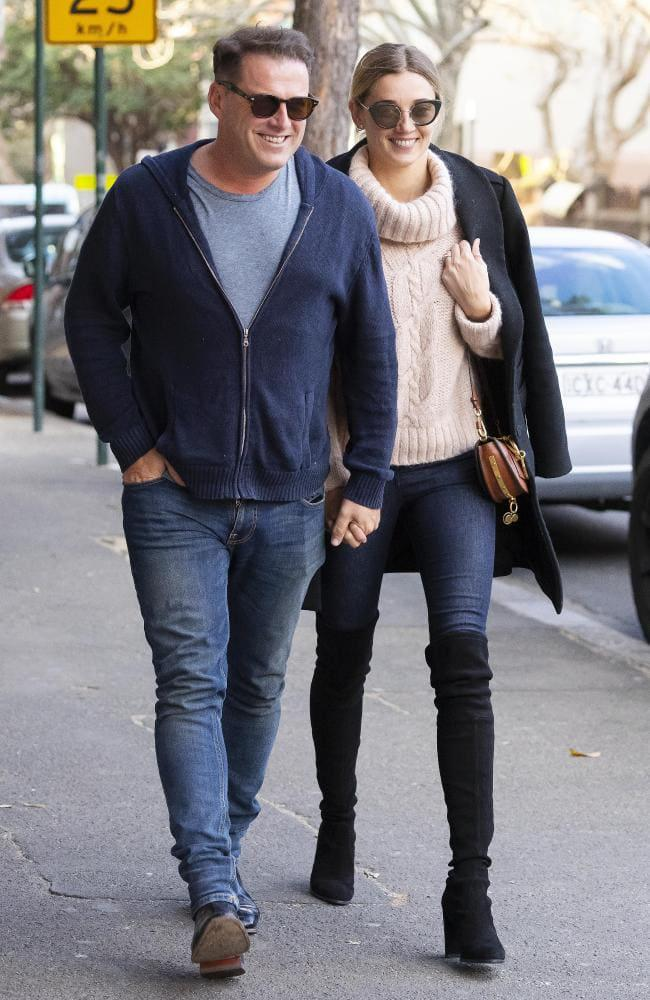Person: (66, 24, 350, 984), (312, 40, 573, 962)
